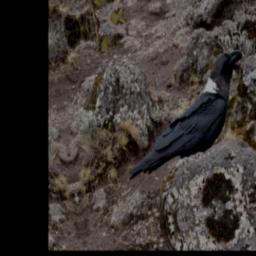Crow: (111, 47, 256, 184)
